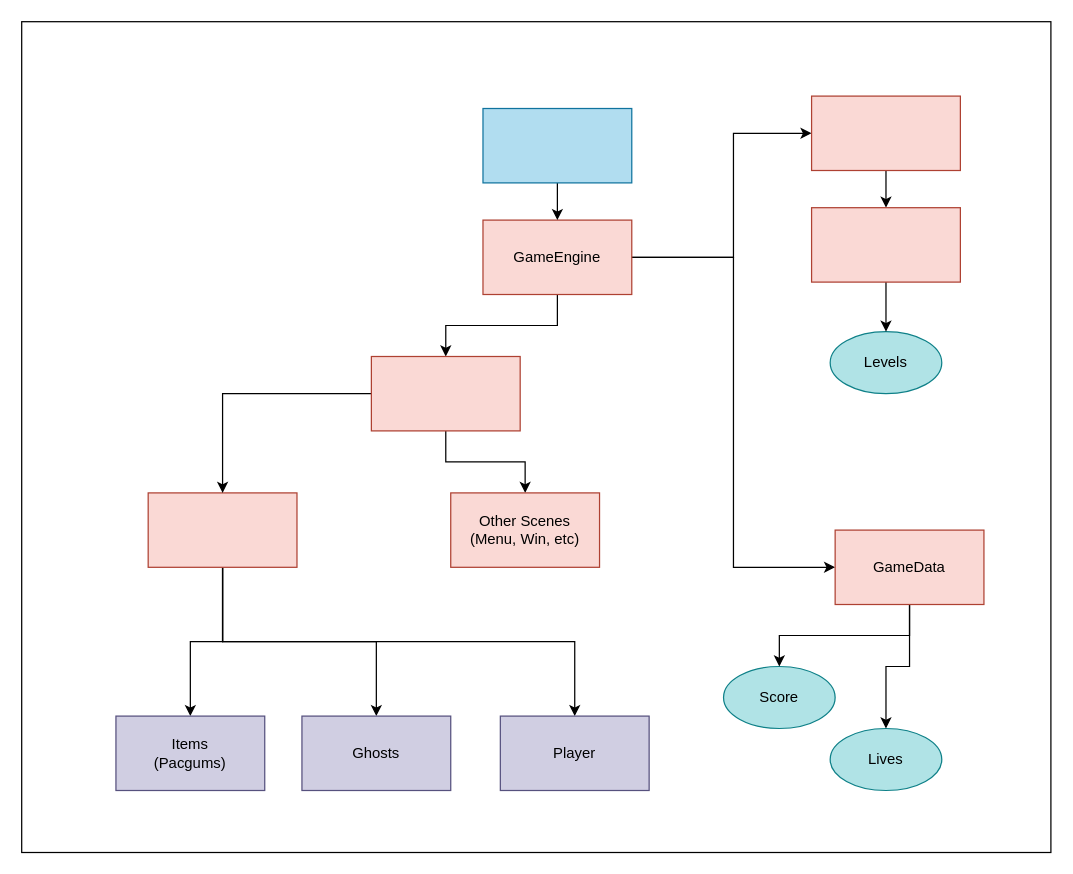
This 1073x874 diagram has some shape labels left out. Each missing label, with the box of its shape:
GameScene: (147, 492, 297, 567)
LevelGenerator: (810, 95, 960, 170)
Main: (482, 107, 632, 183)
MazeGenerator: (810, 206, 960, 282)
Scenes: (370, 355, 520, 431)
